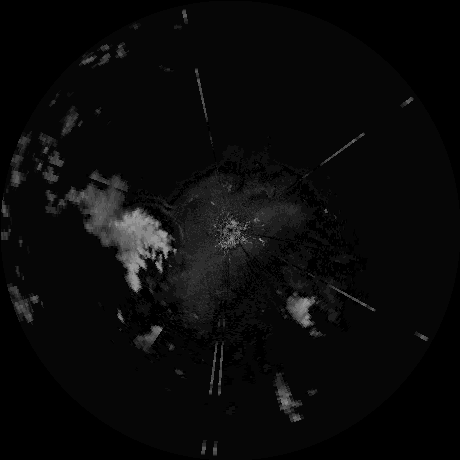frontgust: (145, 200, 188, 247)
